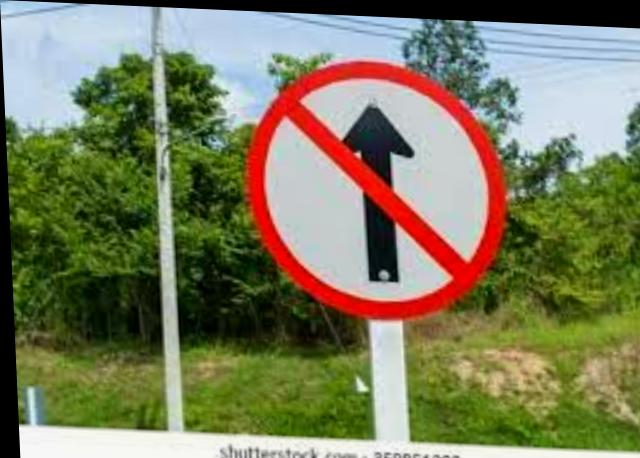not_go_straight: (240, 52, 511, 323)
